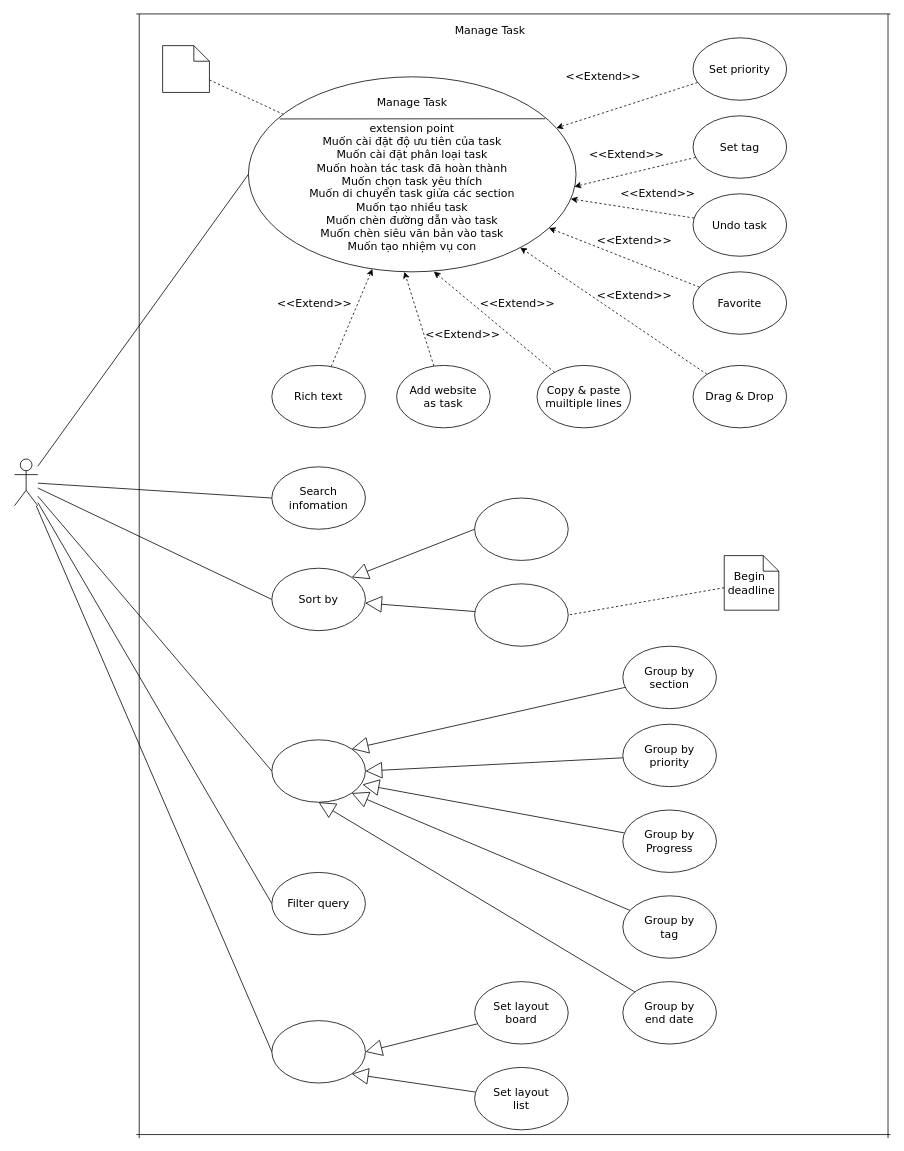
The diagram is 904 pixels wide and 1151 high, and some of its shapes have lost their labels. Each missing label, with the centre of its shape:
"C.R.U.D" goes at (185,68).
"Group by" goes at (318,770).
"Set layout" goes at (318,1051).
"Sort by date" goes at (521,614).
"Sort by name" goes at (521,528).
"User" goes at (26,482).
